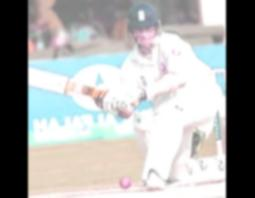batsman: (86, 0, 226, 198)
